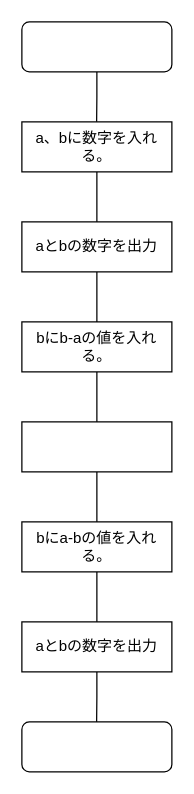
This 194x794 diagram has some shape labels left out. Each missing label, with the centre of its shape:
"aにa+bの値を入れる。" belongs at point 96,446.
"終了" belongs at point 96,746.
"開始" belongs at point 96,46.
